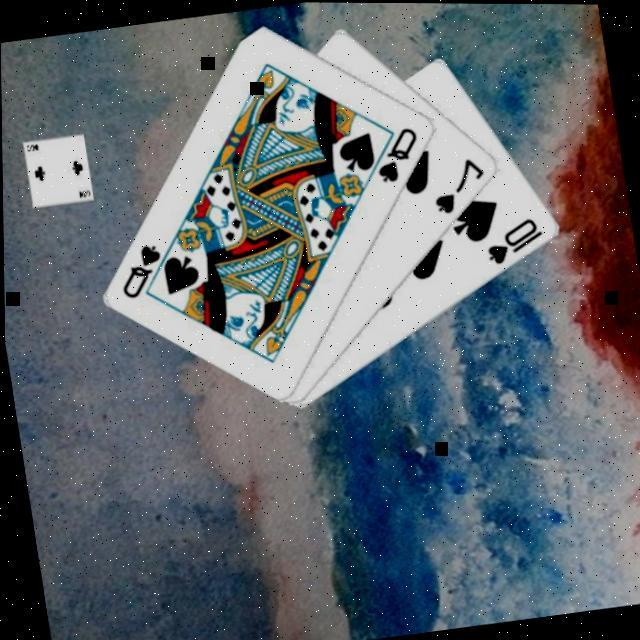10S: (478, 210, 548, 266)
7S: (423, 150, 492, 217)
QS: (110, 238, 170, 302), (366, 120, 425, 185)
